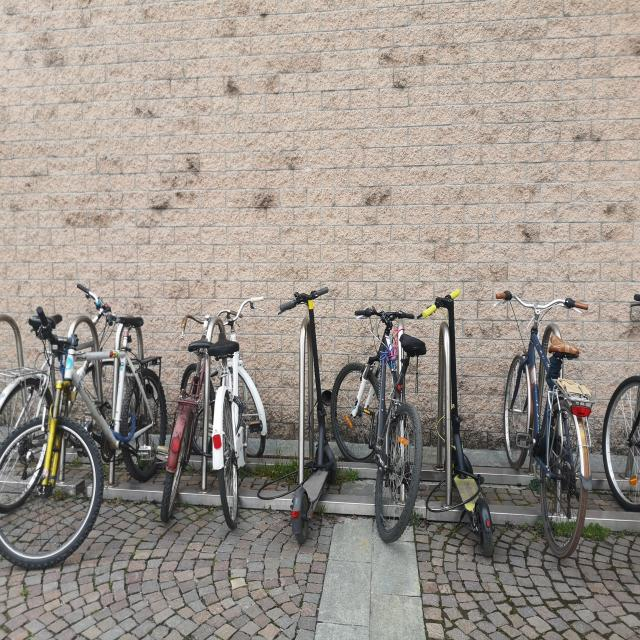Bicycle: (2, 308, 158, 598), (506, 273, 591, 552), (331, 284, 424, 538), (0, 281, 113, 453), (204, 248, 273, 526), (428, 272, 494, 556), (280, 270, 337, 545), (170, 264, 203, 543), (609, 249, 640, 528)
